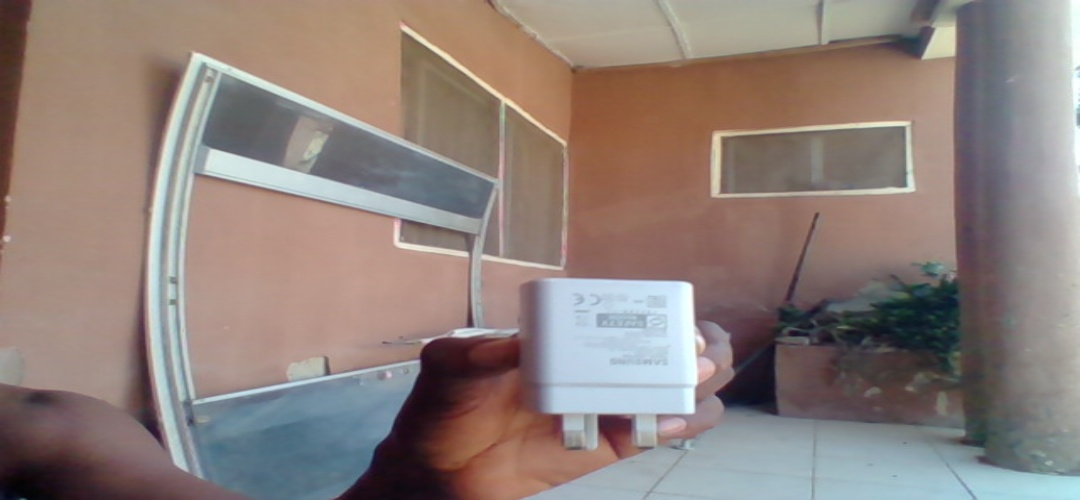phone_charger: (518, 278, 699, 450)
